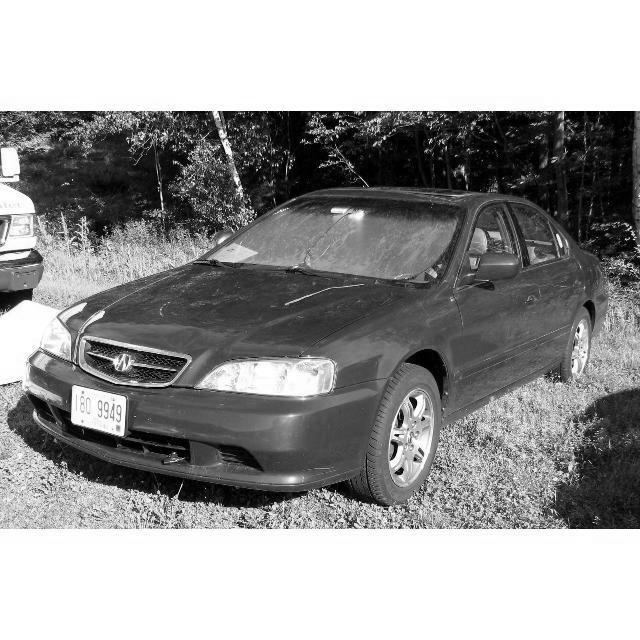bonnet-dent: (140, 255, 349, 341)
